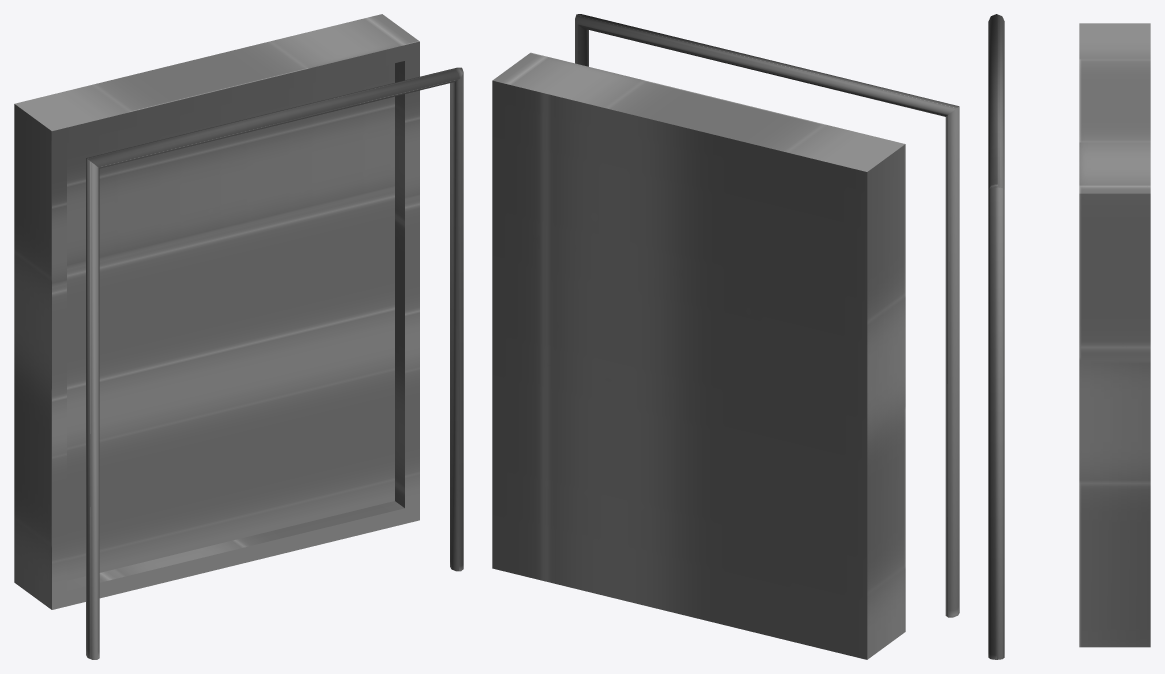
Rendered from Door.fbx.
The picture shows the model from 3 angles, left to right: view 1: azimuth 30°, elevation 25°; view 2: azimuth 150°, elevation 25°; view 3: azimuth 270°, elevation 25°; orthographic projection. The views are drawn at different scales.
Visible parts, largest first — view 1: polySurface2, YelBlack; view 2: polySurface2, YelBlack; view 3: polySurface2, YelBlack.
Boxes of the visible parts, x1,y1,x2,y2 form: polySurface2: (14, 14, 419, 609); YelBlack: (86, 67, 463, 659); polySurface2: (492, 52, 905, 659); YelBlack: (575, 14, 959, 617); polySurface2: (1079, 23, 1150, 647); YelBlack: (988, 14, 1004, 659).
Size of the model in its own units: 25.11 by 31.85 by 9.9.
